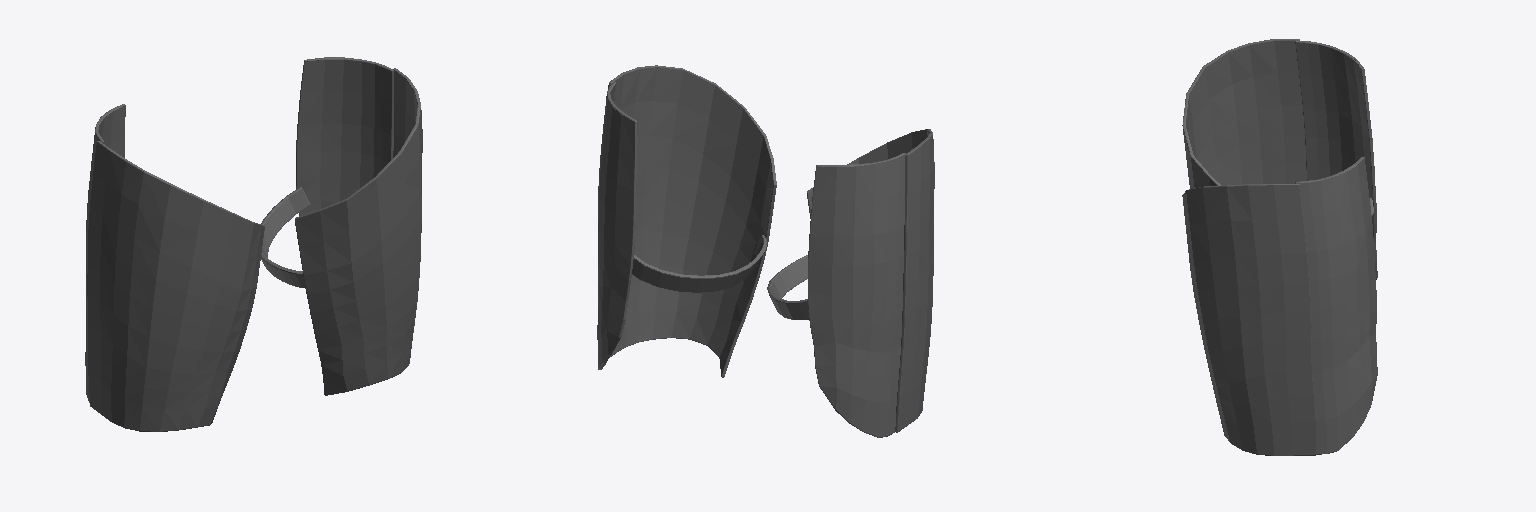
File: Bedro.obj
3 renders of one model, left to right at view 1: azimuth 30°, elevation 25°; view 2: azimuth 150°, elevation 25°; view 3: azimuth 270°, elevation 25°, orthographic.
Visible parts, largest first — view 1: Object004; view 2: Object004; view 3: Object004.
Boxes of the visible parts, <box> form: Object004: <box>85,57,422,431</box>; Object004: <box>597,65,934,437</box>; Object004: <box>1182,39,1377,455</box>.
Size of the model in its own units: 2.08 by 1.88 by 1.15.